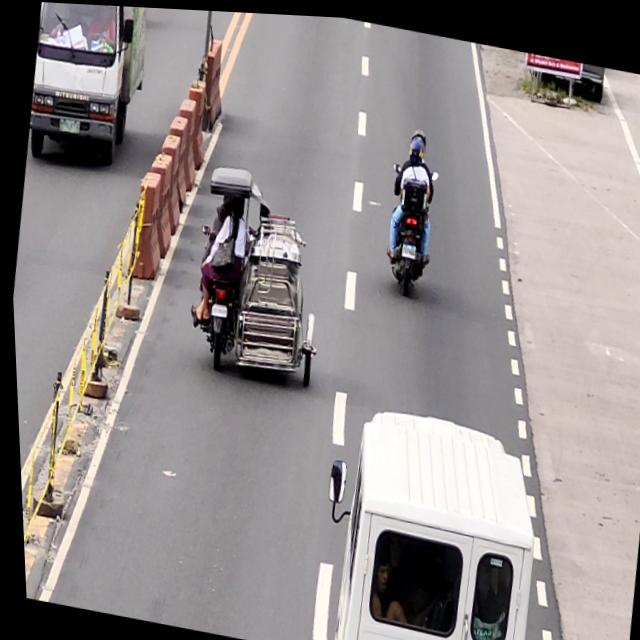Car: (296, 392, 551, 640)
License-Plate: (205, 299, 227, 317), (398, 239, 415, 256)
Motorcycle: (373, 156, 442, 299)
Tricycle: (176, 158, 340, 390)
